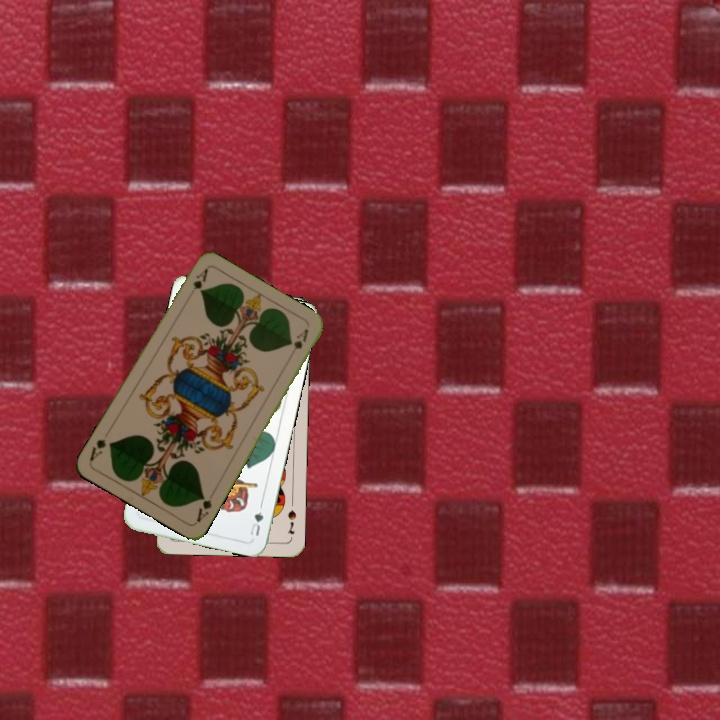GA: (184, 264, 210, 301), (192, 492, 215, 525)
GU: (245, 507, 266, 539)
S7: (284, 506, 299, 536)
